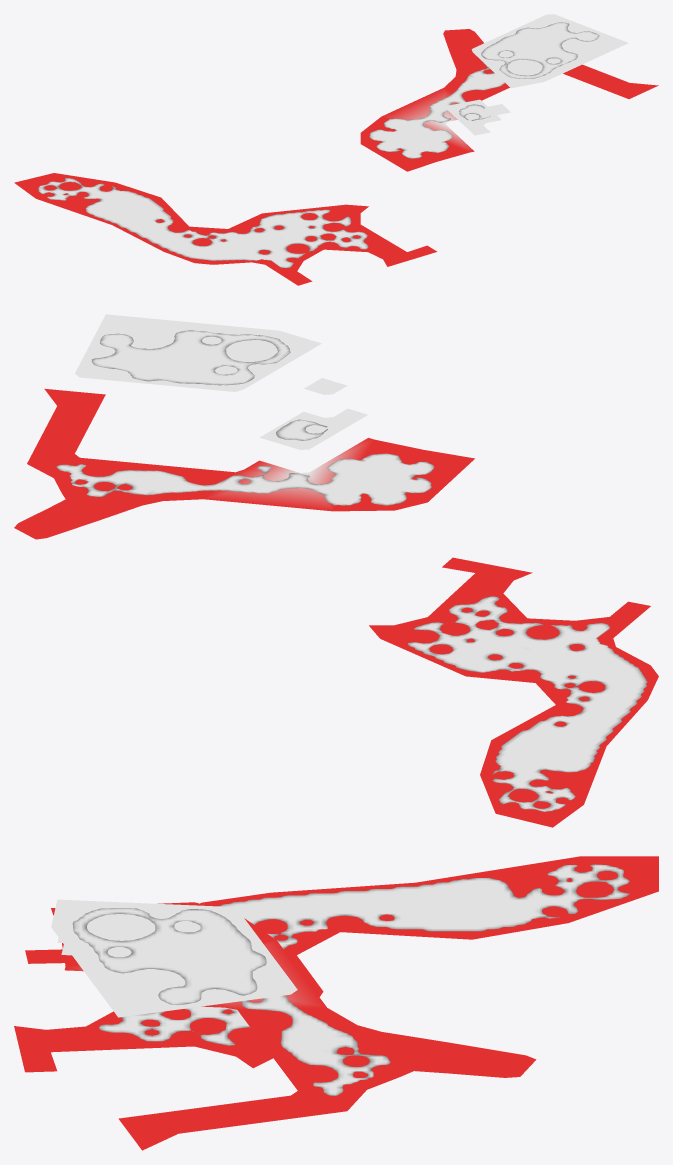
The model's file is pollutiona_bake.dae.
The picture shows the model from 3 angles, top to bottom: view 1: azimuth 30°, elevation 25°; view 2: azimuth 150°, elevation 25°; view 3: azimuth 270°, elevation 25°; orthographic projection. The views are drawn at different scales.
Parts seen in each view (by area): view 1: m0_VC, m0; view 2: m0_VC, m0; view 3: m0_VC, m0.
Boxes of the visible parts, box(x1,y1,x2,y2) form: m0_VC: box(14, 14, 658, 285); m0: box(38, 22, 599, 268); m0_VC: box(14, 314, 658, 827); m0: box(56, 330, 647, 811); m0_VC: box(14, 856, 658, 1150); m0: box(72, 864, 629, 1095).
Size of the model in its own units: 6521 by 1700 by 4053.
Materials: 2 (2 with a texture image).
